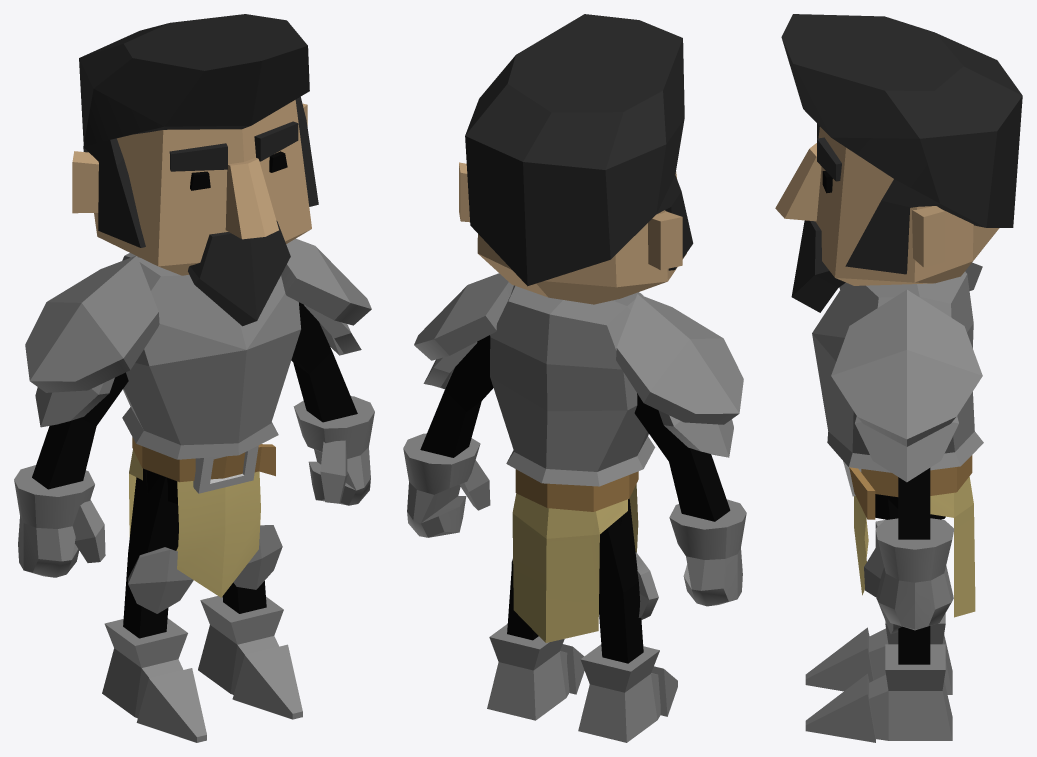
The model's file is army_soldier_64.glb.
3 renders of one model, left to right at view 1: azimuth 30°, elevation 25°; view 2: azimuth 150°, elevation 25°; view 3: azimuth 270°, elevation 25°, orthographic. The views are drawn at different scales.
Parts seen in each view (by area): view 1: Soldier_64; view 2: Soldier_64; view 3: Soldier_64.
Part boxes in pixels (bbox=[...]): Soldier_64: bbox=[14, 14, 374, 742]; Soldier_64: bbox=[403, 14, 746, 742]; Soldier_64: bbox=[775, 14, 1022, 742].
Size of the model in its own units: 0.9251 by 1.7 by 0.5718.
7 materials, 1 textured.
